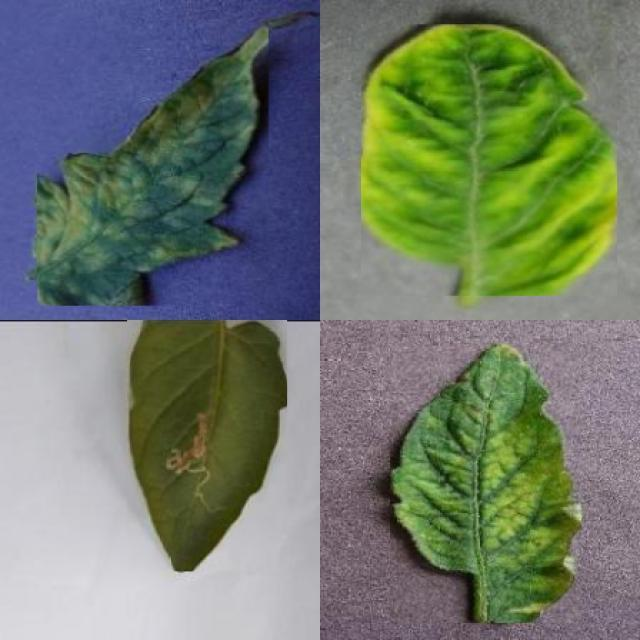Leaf Miner: (127, 320, 287, 571)
Leaf Mold: (37, 23, 269, 306)
Mosaic Virus: (391, 343, 582, 623)
Yellow Leaf Curl Virus: (360, 24, 617, 296)
